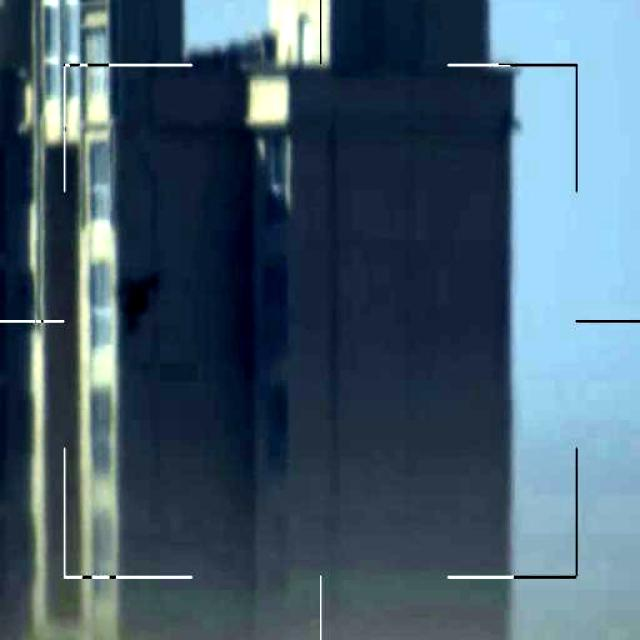bird: (108, 260, 168, 331)
